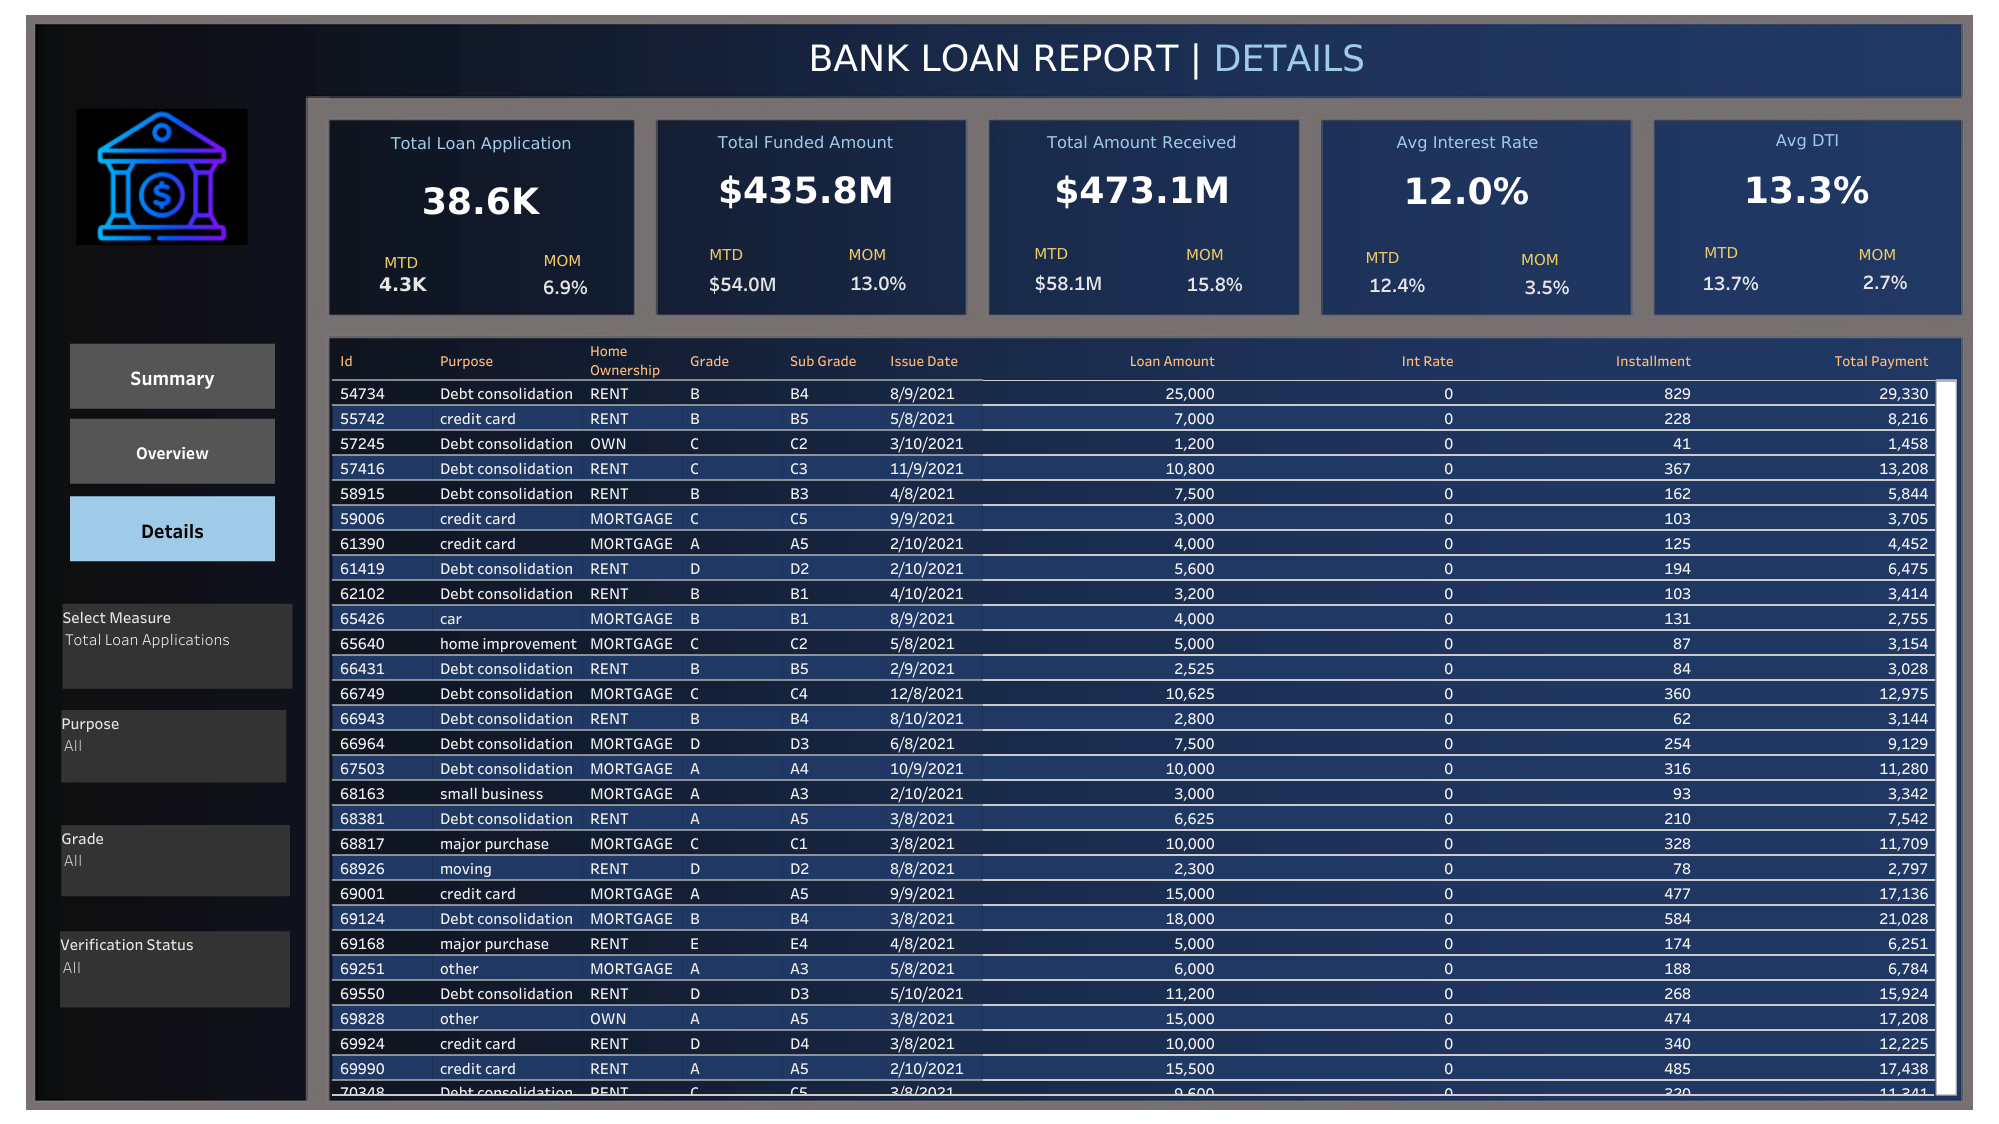

Layout of this report page (visuals, bound fields, positions):
{"tool":"tableau","page":{"name":"DETAILS","canvas":[1600,900],"ordinal":0},"visuals":[{"type":"image","param":"Image/Tableau Background 3.jpg","box":[8,8,1584,884]},{"type":"text","box":[473,12,793,69]},{"type":"image","param":"Image/WhatsApp Image 2026-08-31 at 14.33.42.jpeg","box":[60,90,137,120]},{"type":"worksheet","title":"Avg DTI","mark":"Automatic","box":[1376,98,140,77]},{"type":"worksheet","title":"Total Funded Amount","mark":"Automatic","box":[554,99,181,75]},{"type":"worksheet","title":"Total Amount Received","mark":"Automatic","box":[750,99,327,74]},{"type":"worksheet","title":"Avg Interest Rate","mark":"Automatic","box":[1101,99,146,76]},{"type":"worksheet","title":"Total Loan Application","mark":"Automatic","box":[266,100,238,90]},{"type":"text","box":[1327,186,100,30]},{"type":"text","box":[791,187,100,30]},{"type":"text","box":[531,188,100,30]},{"type":"text","box":[644,188,100,30]},{"type":"text","box":[914,188,100,30]},{"type":"text","box":[1452,188,100,30]},{"type":"text","box":[1056,190,100,30]},{"type":"text","box":[1182,192,100,30]},{"type":"text","box":[400,193,100,30]},{"type":"text","box":[271,194,100,30]},{"type":"worksheet","title":"MOM Avg DTI","mark":"Automatic","box":[1463,195,90,60]},{"type":"worksheet","title":"MTD Avg DTI","mark":"Automatic","box":[1351,196,68,59]},{"type":"worksheet","title":"MTD Total Loan Applications","mark":"Automatic","box":[283,201,80,54]},{"type":"worksheet","title":"MTD Avg INT Rate ","mark":"Automatic","box":[1078,202,80,49]},{"type":"worksheet","title":"MOM Total Funded Amount","mark":"Automatic","box":[663,204,80,44]},{"type":"worksheet","title":"MOM Loan Application","mark":"Automatic","box":[422,205,60,48]},{"type":"worksheet","title":"MOM Total Amount Received","mark":"Automatic","box":[926,206,92,40]},{"type":"worksheet","title":"MTD Total Amount Received","mark":"Automatic","box":[817,207,78,38]},{"type":"worksheet","title":"MOM Avg Int Rate","mark":"Automatic","box":[1201,207,74,43]},{"type":"worksheet","title":"MTD Total Funded Amount ","mark":"Automatic","box":[539,209,111,35]},{"type":"dashboard-object","box":[56,270,164,52]},{"type":"worksheet","title":"Details Tab","mark":"Automatic","rows":["id","purpose","home_ownership","grade","sub_grade","issue_date"],"box":[266,272,1300,605]},{"type":"dashboard-object","box":[56,330,164,52]},{"type":"dashboard-object","box":[56,390,164,52]},{"type":"parameter","param":"[Parameters].[Parameter 1016263133622307]","box":[50,500,190,60]},{"type":"filter","title":"Avg DTI","param":"[federated.01xzj6x0jyavo41ald2ko1xmwz8x].[none:purpose:nk]","box":[49,600,190,60]},{"type":"filter","title":"Avg DTI","param":"[federated.01xzj6x0jyavo41ald2ko1xmwz8x].[none:grade:nk]","box":[50,700,190,60]},{"type":"filter","title":"Avg DTI","param":"[federated.01xzj6x0jyavo41ald2ko1xmwz8x].[none:verification_status:nk]","box":[48,800,190,60]}]}

Visuals, with their boxes in screenshot pixels (x1, y1, x2, y2), scaled from the page's 1600x900 canvas onto the 1999x1124 screenshot:
image: [10, 10, 1989, 1114]
text: [591, 15, 1582, 101]
image: [75, 112, 246, 262]
"Avg DTI" worksheet: [1719, 122, 1894, 219]
"Total Funded Amount" worksheet: [692, 124, 918, 217]
"Total Amount Received" worksheet: [937, 124, 1346, 216]
"Avg Interest Rate" worksheet: [1376, 124, 1558, 219]
"Total Loan Application" worksheet: [332, 125, 630, 237]
text: [1658, 232, 1783, 270]
text: [988, 234, 1113, 271]
text: [663, 235, 788, 272]
text: [805, 235, 930, 272]
text: [1142, 235, 1267, 272]
text: [1814, 235, 1939, 272]
text: [1319, 237, 1444, 275]
text: [1477, 240, 1602, 277]
text: [500, 241, 625, 279]
text: [339, 242, 464, 280]
"MOM Avg DTI" worksheet: [1828, 244, 1940, 318]
"MTD Avg DTI" worksheet: [1688, 245, 1773, 318]
"MTD Total Loan Applications" worksheet: [354, 251, 454, 318]
"MTD Avg INT Rate " worksheet: [1347, 252, 1447, 313]
"MOM Total Funded Amount" worksheet: [828, 255, 928, 310]
"MOM Loan Application" worksheet: [527, 256, 602, 316]
"MOM Total Amount Received" worksheet: [1157, 257, 1272, 307]
"MTD Total Amount Received" worksheet: [1021, 259, 1118, 306]
"MOM Avg Int Rate" worksheet: [1500, 259, 1593, 312]
"MTD Total Funded Amount " worksheet: [673, 261, 812, 305]
dashboard-object: [70, 337, 275, 402]
"Details Tab" worksheet: [332, 340, 1957, 1095]
dashboard-object: [70, 412, 275, 477]
dashboard-object: [70, 487, 275, 552]
parameter: [62, 624, 300, 699]
"Avg DTI" filter: [61, 749, 299, 824]
"Avg DTI" filter: [62, 874, 300, 949]
"Avg DTI" filter: [60, 999, 297, 1074]
